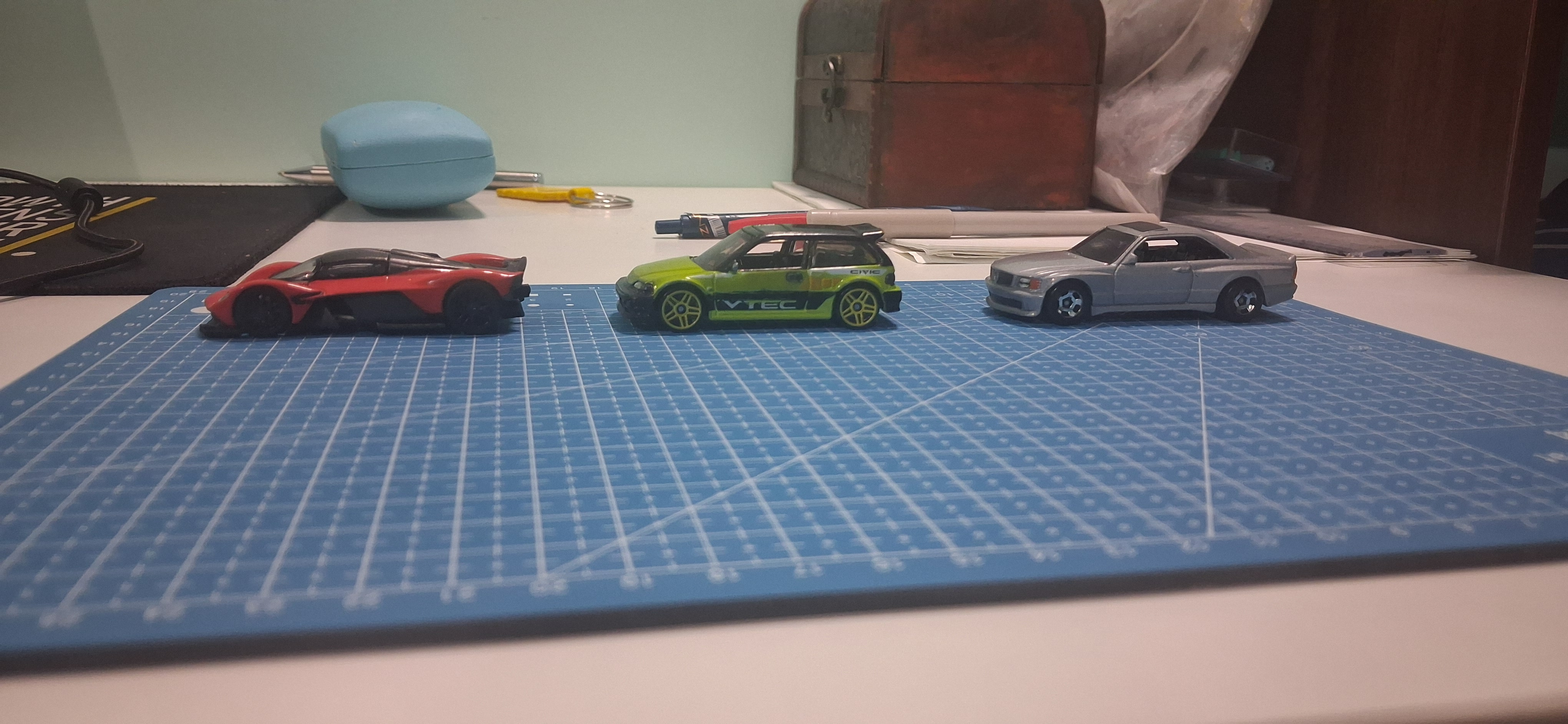Aston_Martin_Valkyrie: (174, 225, 544, 346)
Honda_Civic: (588, 201, 919, 358)
Mercedes_Benz_560_SEC_AMG: (966, 208, 1317, 353)
